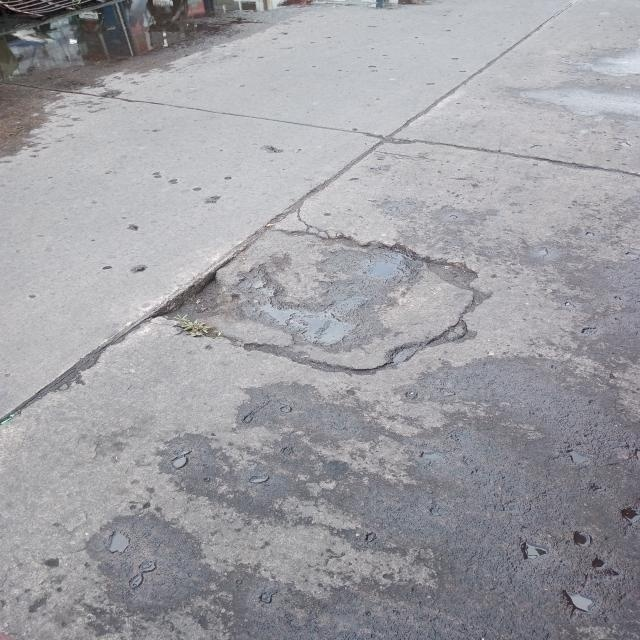pothole: (160, 204, 490, 380)
